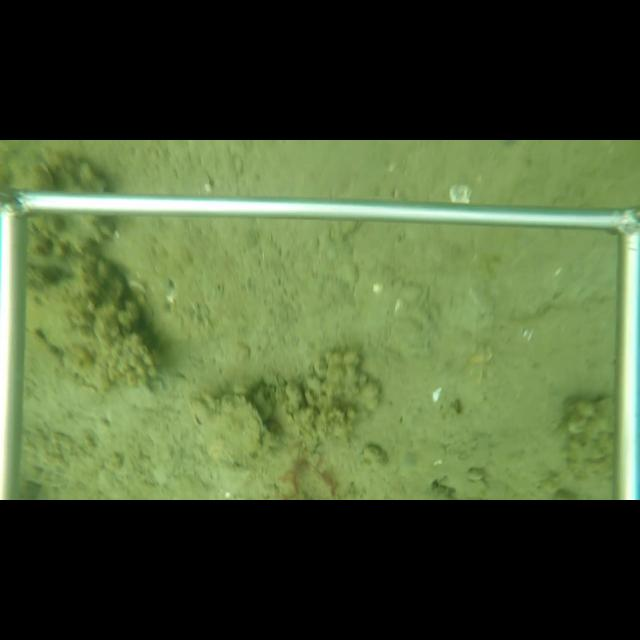Oyster-Closed: (182, 389, 278, 469)
